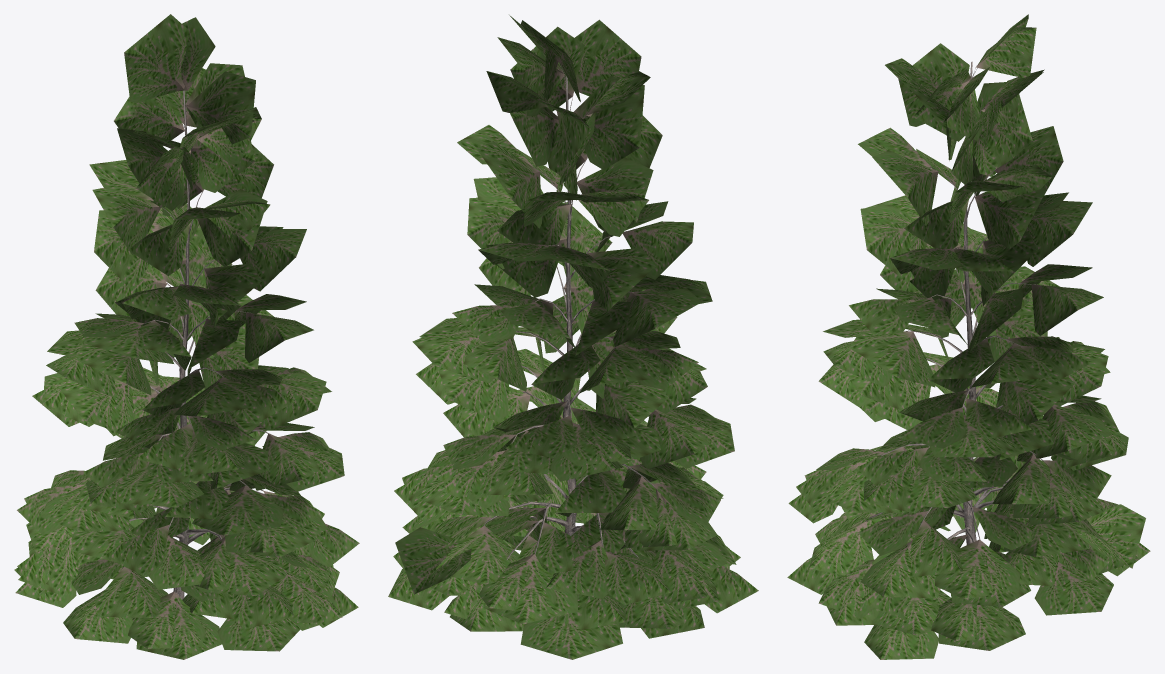
File: fir.fbx
3 views of the same model, side by side, from view 1: azimuth 30°, elevation 25°; view 2: azimuth 150°, elevation 25°; view 3: azimuth 270°, elevation 25° (orthographic). The views are drawn at different scales.
Parts seen in each view (by area): view 1: Tree_1, Tree_0; view 2: Tree_1, Tree_0; view 3: Tree_1, Tree_0.
Boxes of the visible parts, bbox=[...] form: Tree_1: bbox=[14, 14, 359, 659]; Tree_0: bbox=[123, 90, 271, 599]; Tree_1: bbox=[388, 15, 758, 659]; Tree_0: bbox=[483, 63, 660, 559]; Tree_1: bbox=[787, 14, 1150, 659]; Tree_0: bbox=[865, 61, 1044, 544].
Size of the model in its own units: 239 by 439 by 237.
Materials: 2 (2 with a texture image).
